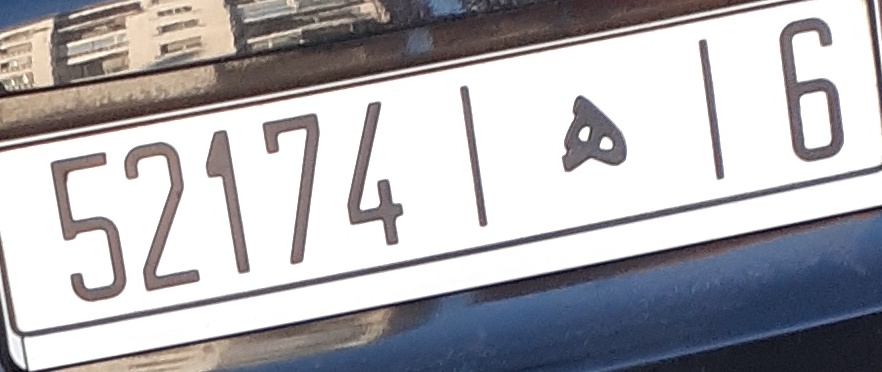1: (201, 127, 254, 273)
2: (123, 141, 201, 293)
4: (340, 98, 412, 248)
5: (48, 151, 126, 302)
6: (774, 15, 850, 167)
7: (258, 111, 323, 268)
h: (547, 86, 637, 174)
